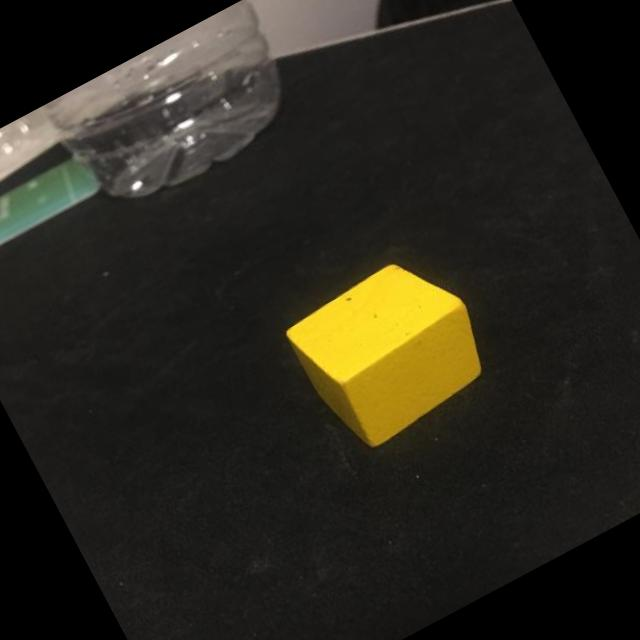yellow: (279, 243, 502, 457)
